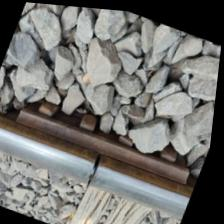person: (62, 135, 132, 202)
